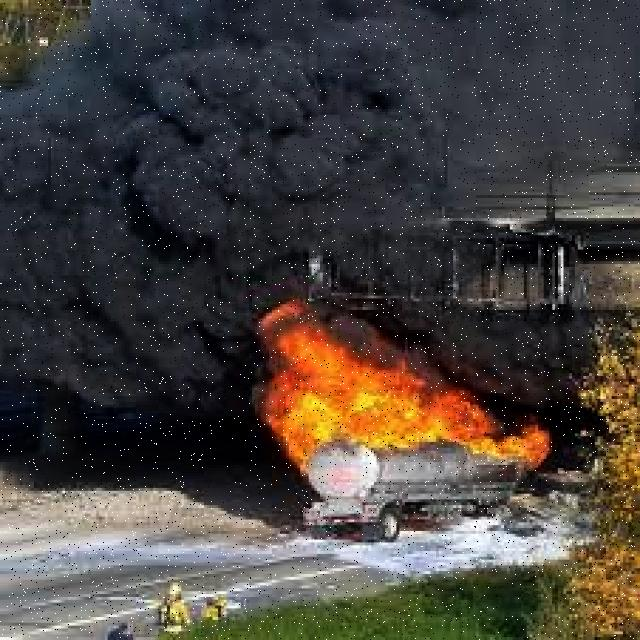fire: (257, 297, 558, 461)
smoke: (8, 8, 400, 393)
